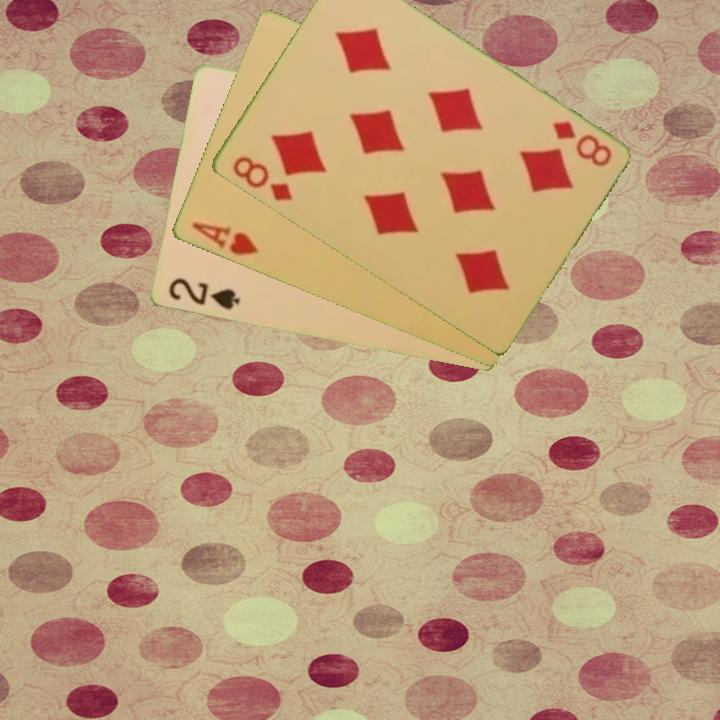2s: (164, 274, 243, 313)
8d: (548, 117, 615, 170), (228, 152, 295, 204)
Ah: (188, 218, 261, 259)
